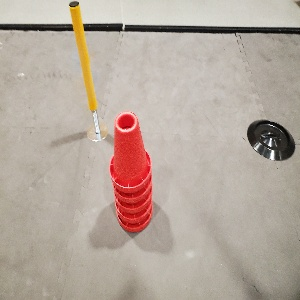Red_5: (105, 108, 157, 235)
